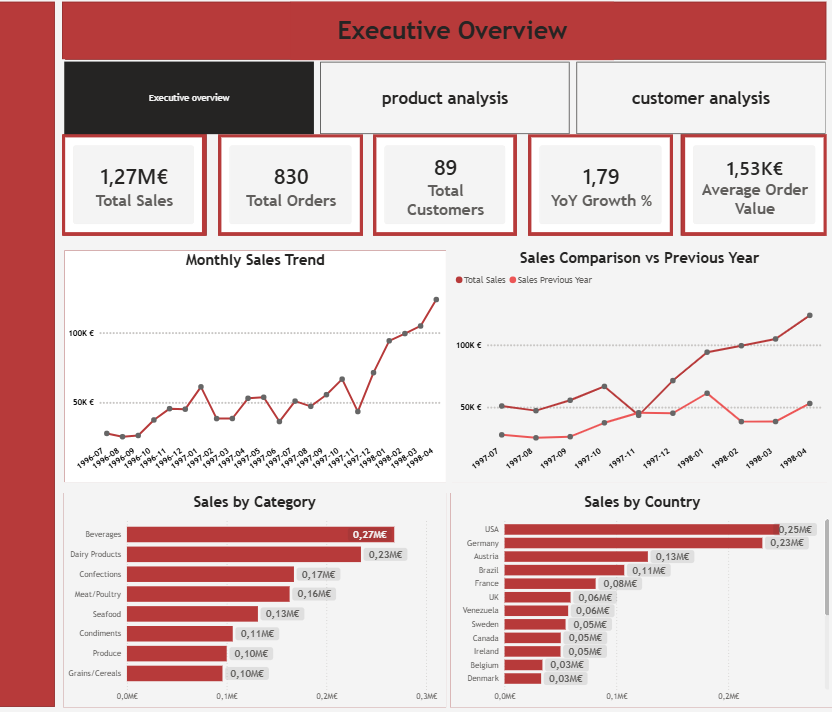

Layout of this report page (visuals, bound fields, positions):
{"tool":"powerbi","page":{"name":"Executive overview","canvas":[1280,1100],"ordinal":0},"visuals":[{"type":"shape","box":[106,14,1162,88],"z":0},{"type":"shape","box":[10,14,86,1072],"z":1000},{"type":"shape","box":[108,214,218,154],"z":2000},{"type":"shape","box":[344,216,220,152],"z":3000},{"type":"shape","box":[580,216,218,152],"z":4000},{"type":"shape","box":[816,216,220,152],"z":5000},{"type":"shape","box":[1048,214,220,154],"z":6000},{"type":"cardVisual","fields":{"Data":["Measures_Table.Total Sales"]},"box":[106,214,218,154],"z":7000},{"type":"cardVisual","fields":{"Data":["Measures_Table.Total Orders"]},"box":[344,214,220,154],"z":8000},{"type":"cardVisual","fields":{"Data":["Measures_Table.Total Customers"]},"box":[580,214,218,154],"z":9000},{"type":"cardVisual","fields":{"Data":["Measures_Table.YoY Growth %"]},"box":[816,214,220,154],"z":10000},{"type":"cardVisual","fields":{"Data":["Measures_Table.Average Order Value"]},"box":[1050,214,220,154],"z":11000},{"type":"textbox","box":[100,100,10,4],"z":12000},{"type":"textbox","box":[454.2,13.7,491.3,89.2],"z":13000},{"type":"shape","box":[110,392,580,352],"z":14000},{"type":"shape","box":[700,392,570,352],"z":15000},{"type":"lineChart","title":"Monthly Sales Trend","fields":{"Category":["vw_dim_date.YearMonth"],"Y":["Measures_Table.Total Sales"]},"box":[110,392,580,352],"z":16000},{"type":"lineChart","title":"Sales Comparison vs Previous Year","fields":{"Category":["vw_dim_date.YearMonth"],"Y":["Measures_Table.Total Sales","Measures_Table.Sales Previous Year"]},"box":[700,390,570,354],"z":17000},{"type":"shape","box":[108,760,582,326],"z":18000},{"type":"shape","box":[698,760,582,326],"z":19000},{"type":"barChart","title":"Sales by Category","fields":{"Y":["Measures_Table.Total Sales"],"Category":["vw_dim_product.CategoryName"]},"box":[108,760,582,326],"z":20000},{"type":"barChart","title":"Sales by Country","fields":{"Y":["Measures_Table.Total Sales"],"Category":["vw_dim_customer.Country"]},"box":[698,760,582,326],"z":21000},{"type":"pageNavigator","box":[110,104,1158,110],"z":22000}]}

Visuals, with their boxes in screenshot pixels (x1, y1, x2, y2), scaled from the page's 1280x1100 canvas onto the 832x712 screenshot:
shape: pyautogui.locateOnScreen(69, 9, 824, 66)
shape: pyautogui.locateOnScreen(6, 9, 62, 703)
shape: pyautogui.locateOnScreen(70, 139, 212, 238)
shape: pyautogui.locateOnScreen(224, 140, 367, 238)
shape: pyautogui.locateOnScreen(377, 140, 519, 238)
shape: pyautogui.locateOnScreen(530, 140, 673, 238)
shape: pyautogui.locateOnScreen(681, 139, 824, 238)
cardVisual - Measures_Table.Total Sales: pyautogui.locateOnScreen(69, 139, 211, 238)
cardVisual - Measures_Table.Total Orders: pyautogui.locateOnScreen(224, 139, 367, 238)
cardVisual - Measures_Table.Total Customers: pyautogui.locateOnScreen(377, 139, 519, 238)
cardVisual - Measures_Table.YoY Growth %: pyautogui.locateOnScreen(530, 139, 673, 238)
cardVisual - Measures_Table.Average Order Value: pyautogui.locateOnScreen(682, 139, 826, 238)
textbox: pyautogui.locateOnScreen(65, 65, 72, 67)
textbox: pyautogui.locateOnScreen(295, 9, 615, 67)
shape: pyautogui.locateOnScreen(72, 254, 448, 482)
shape: pyautogui.locateOnScreen(455, 254, 826, 482)
"Monthly Sales Trend" lineChart: pyautogui.locateOnScreen(72, 254, 448, 482)
"Sales Comparison vs Previous Year" lineChart: pyautogui.locateOnScreen(455, 252, 826, 482)
shape: pyautogui.locateOnScreen(70, 492, 448, 703)
shape: pyautogui.locateOnScreen(454, 492, 831, 703)
"Sales by Category" barChart: pyautogui.locateOnScreen(70, 492, 448, 703)
"Sales by Country" barChart: pyautogui.locateOnScreen(454, 492, 831, 703)
pageNavigator: pyautogui.locateOnScreen(72, 67, 824, 139)
